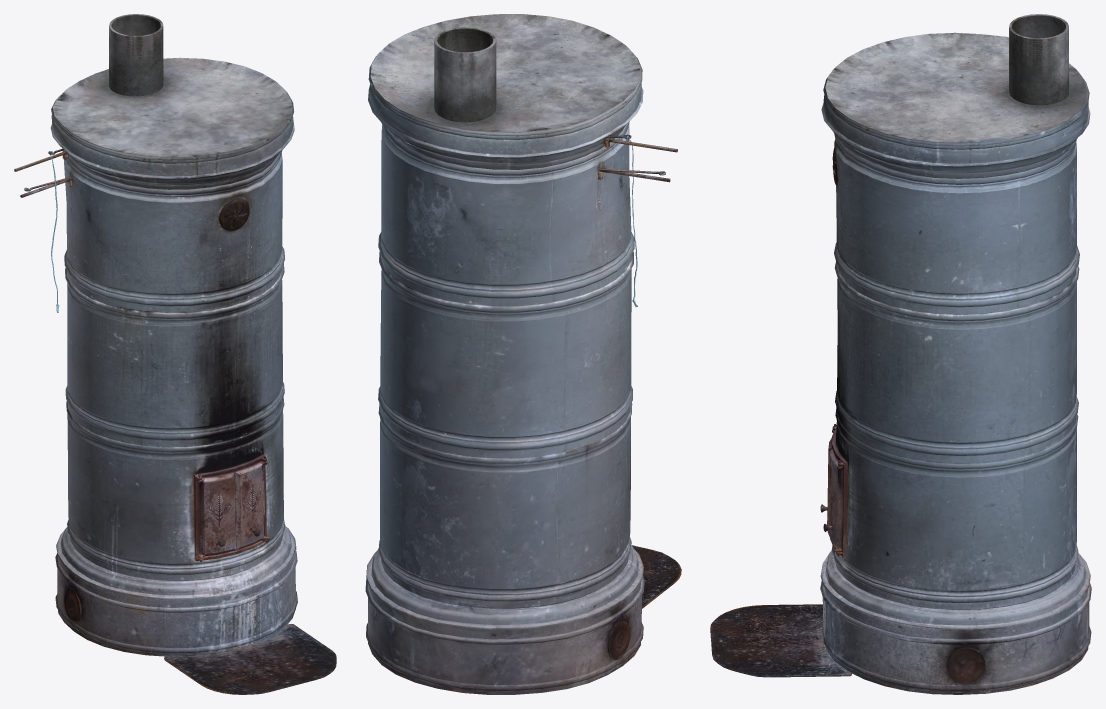
File: scandinavian_masonry_heater.glb
3 renders of one model, left to right at view 1: azimuth 30°, elevation 25°; view 2: azimuth 150°, elevation 25°; view 3: azimuth 270°, elevation 25°, orthographic. The views are drawn at different scales.
Visible parts, largest first — view 1: scandinavian_masonry_heater; view 2: scandinavian_masonry_heater; view 3: scandinavian_masonry_heater.
Boxes of the visible parts, bbox=[...] form: scandinavian_masonry_heater: bbox=[14, 14, 336, 694]; scandinavian_masonry_heater: bbox=[365, 14, 681, 694]; scandinavian_masonry_heater: bbox=[710, 14, 1091, 694].
Size of the model in its own units: 1.17 by 2.36 by 1.34.
1 material, 1 textured.
